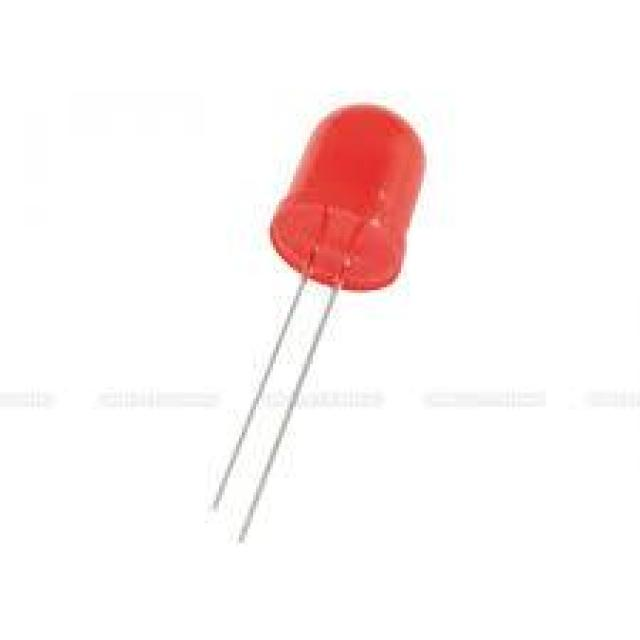Led: (214, 106, 425, 541)
